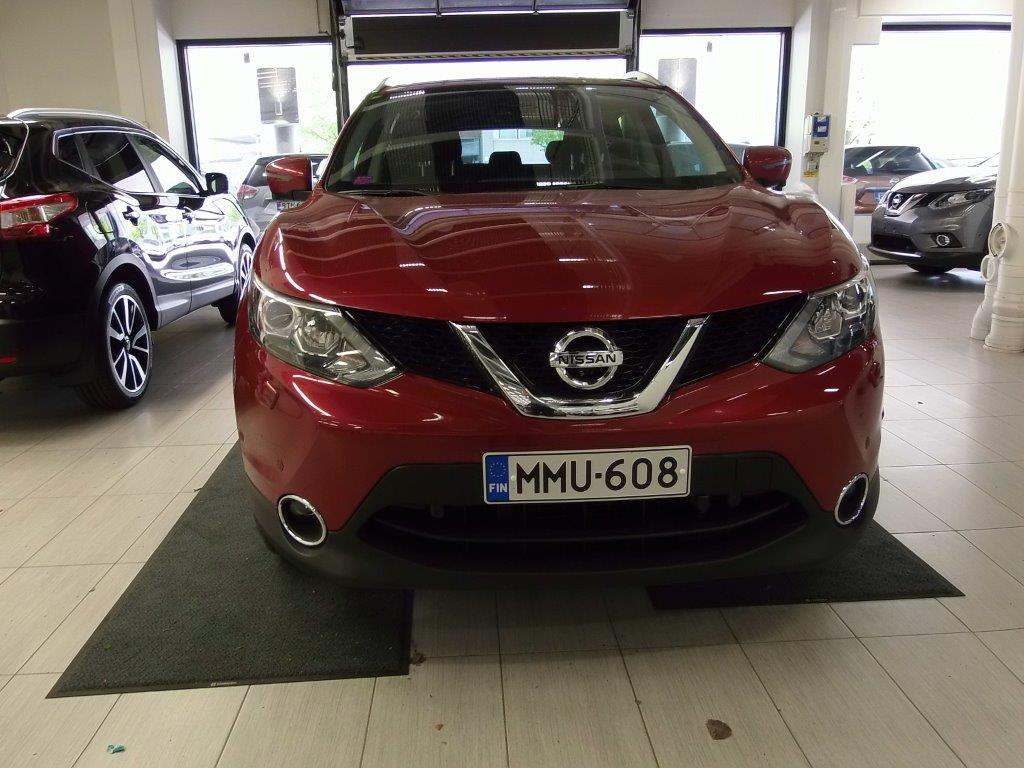license: (478, 445, 686, 507)
